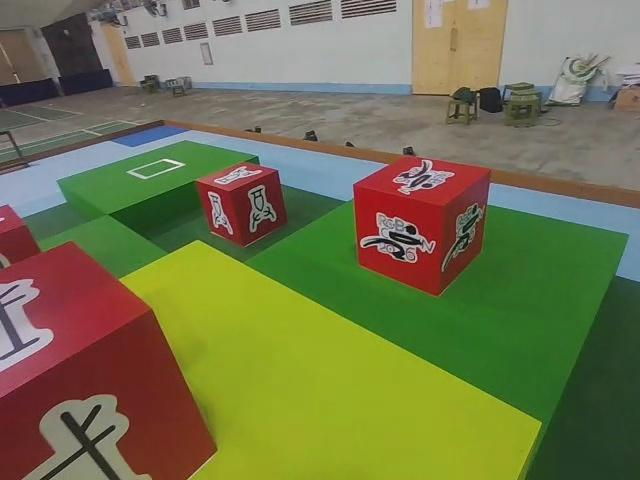R1: (353, 156, 492, 298)
R2 Real: (0, 238, 220, 480), (198, 163, 289, 246)
